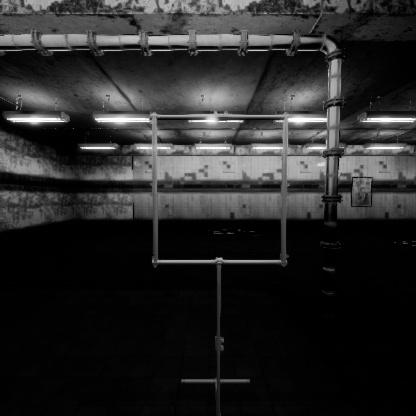gate: (152, 149, 301, 301)
